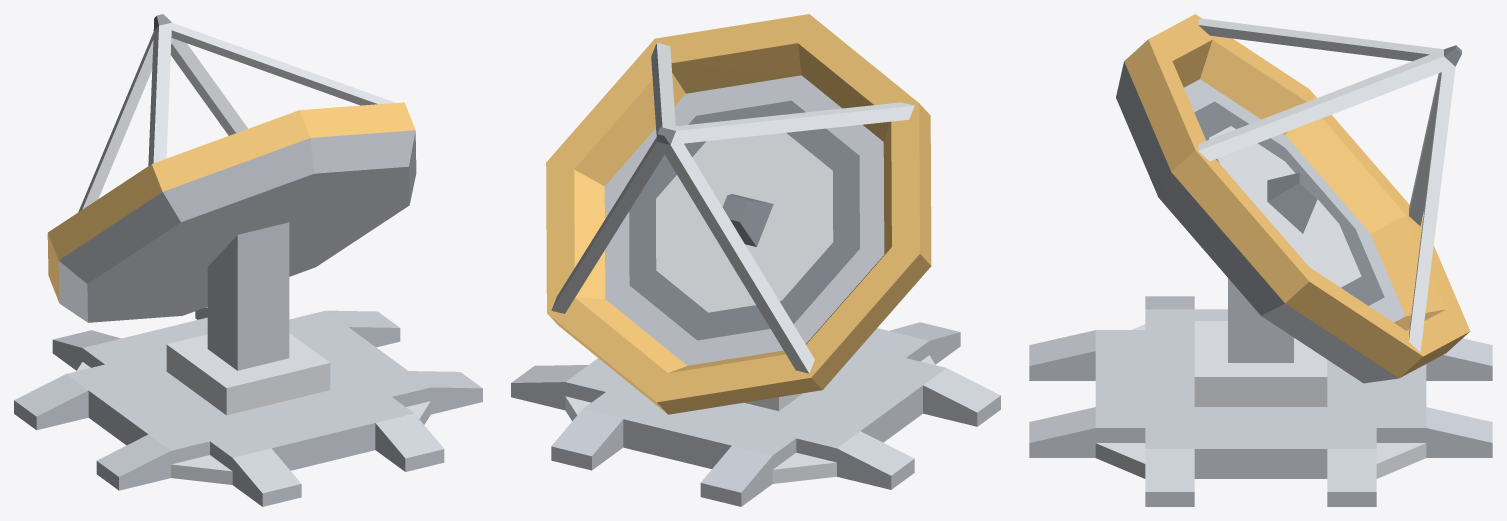
The model's file is satelliteDishdetailed-col.glb.
3 views of the same model, side by side, from view 1: azimuth 30°, elevation 25°; view 2: azimuth 150°, elevation 25°; view 3: azimuth 270°, elevation 25° (orthographic). The views are drawn at different scales.
Parts seen in each view (by area): view 1: satelliteDishdetailed-col; view 2: satelliteDishdetailed-col; view 3: satelliteDishdetailed-col.
Boxes of the visible parts, left/top/right/bottom form: satelliteDishdetailed-col: left=14, top=14, right=482, bottom=506; satelliteDishdetailed-col: left=511, top=14, right=1000, bottom=506; satelliteDishdetailed-col: left=1029, top=14, right=1492, bottom=506.
Size of the model in its own units: 0.7 by 0.6165 by 0.7.
